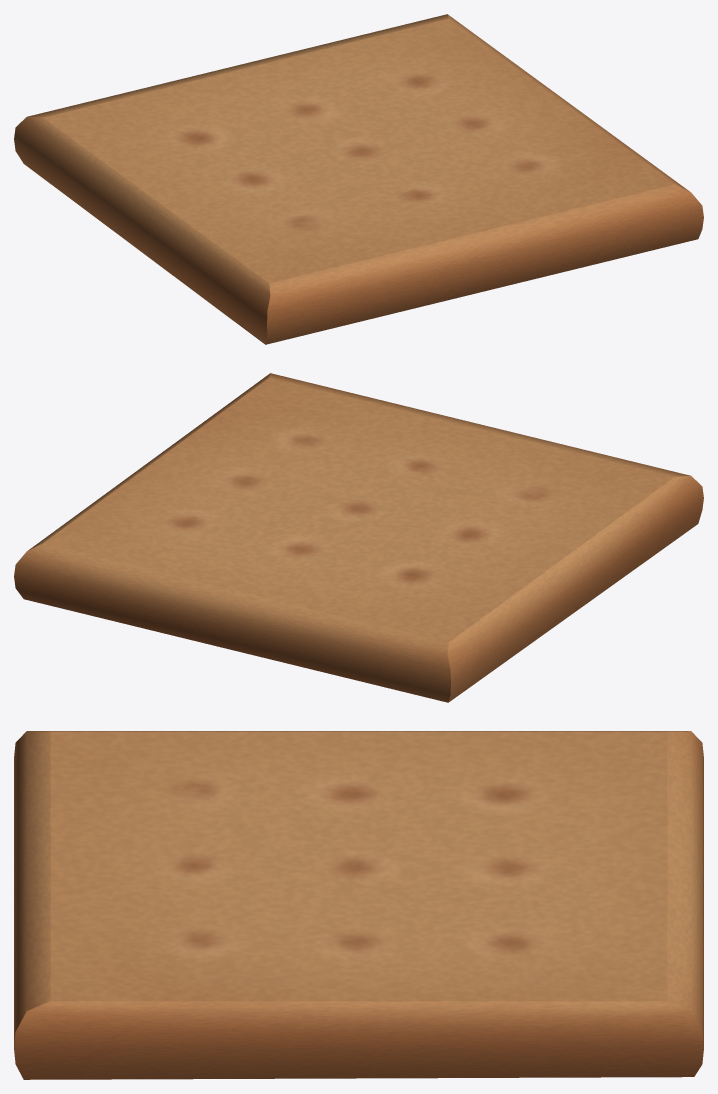
The model's file is biscuit.fbx.
3 views of the same model, one above another, from view 1: azimuth 30°, elevation 25°; view 2: azimuth 150°, elevation 25°; view 3: azimuth 270°, elevation 25° (orthographic). The views are drawn at different scales.
Parts seen in each view (by area): view 1: Box001; view 2: Box001; view 3: Box001.
Boxes of the visible parts, <box> form: Box001: <box>14,14,703,344</box>; Box001: <box>14,373,703,702</box>; Box001: <box>14,731,703,1079</box>.
Bounding box in the file's own units: 20.52 × 2.29 × 20.58.
